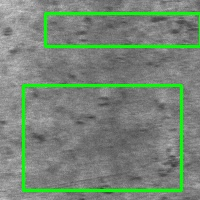rolled-in_scale: (23, 85, 181, 190), (45, 13, 200, 46), (1, 118, 76, 160)
